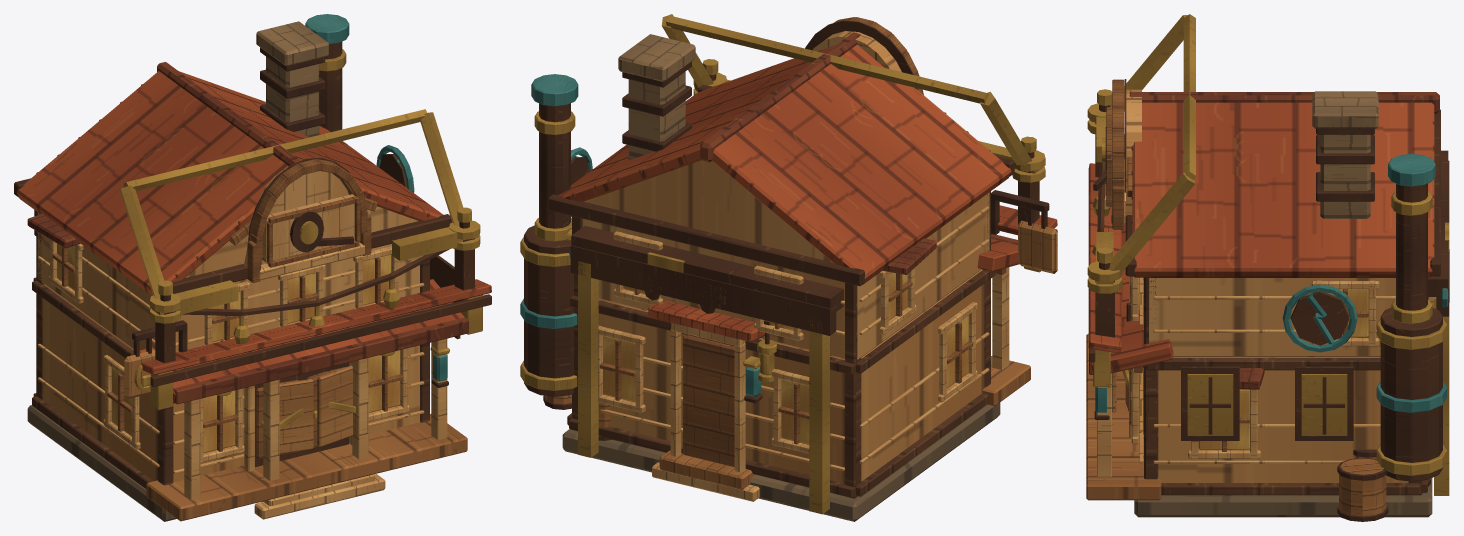
The model's file is tavern.e4.glb.
3 renders of one model, left to right at view 1: azimuth 30°, elevation 25°; view 2: azimuth 150°, elevation 25°; view 3: azimuth 270°, elevation 25°, orthographic. The views are drawn at different scales.
Visible parts, largest first — view 1: TownTavernE4; view 2: TownTavernE4; view 3: TownTavernE4.
Boxes of the visible parts, bbox=[...] form: TownTavernE4: bbox=[14, 14, 491, 521]; TownTavernE4: bbox=[520, 14, 1057, 521]; TownTavernE4: bbox=[1086, 14, 1449, 521].
Size of the model in its own units: 4.23 by 3.96 by 3.35.
1 material, 1 textured.
